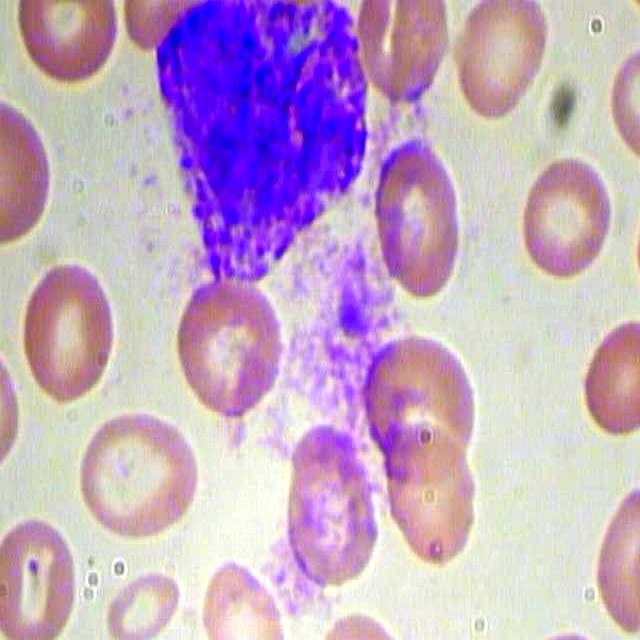RBC: (75, 400, 203, 549), (171, 273, 296, 419), (279, 416, 378, 589), (516, 144, 626, 284), (373, 140, 469, 300), (383, 414, 479, 574), (16, 260, 119, 404), (447, 2, 552, 122), (355, 1, 454, 112), (1, 510, 83, 640), (8, 1, 123, 87), (200, 548, 288, 640), (580, 309, 640, 442)
